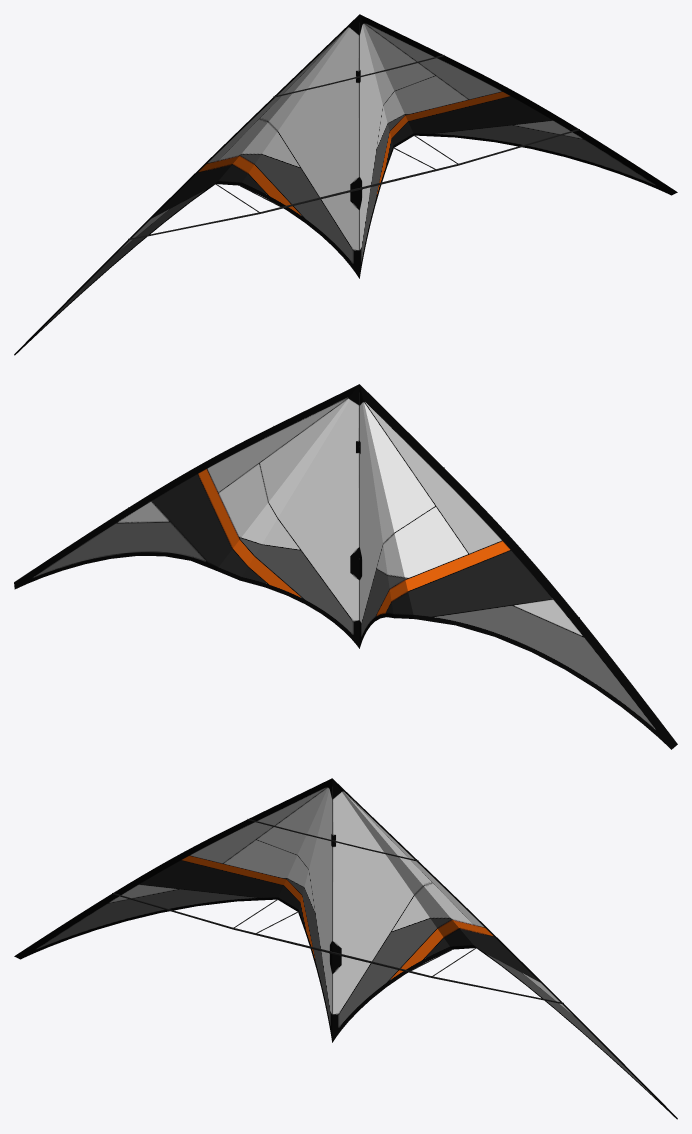
The model's file is EOL-2015.obj.
3 views of the same model, one above another, from view 1: azimuth 30°, elevation 25°; view 2: azimuth 150°, elevation 25°; view 3: azimuth 330°, elevation 25° (orthographic).
Size of the model in its own units: 2240 by 882 by 262.
Materials: 2 (1 with a texture image).
